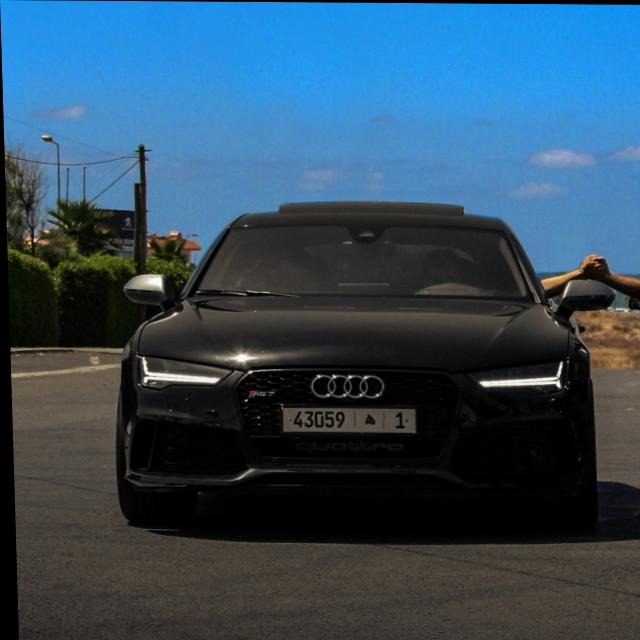License-Plate: (280, 407, 414, 433)
